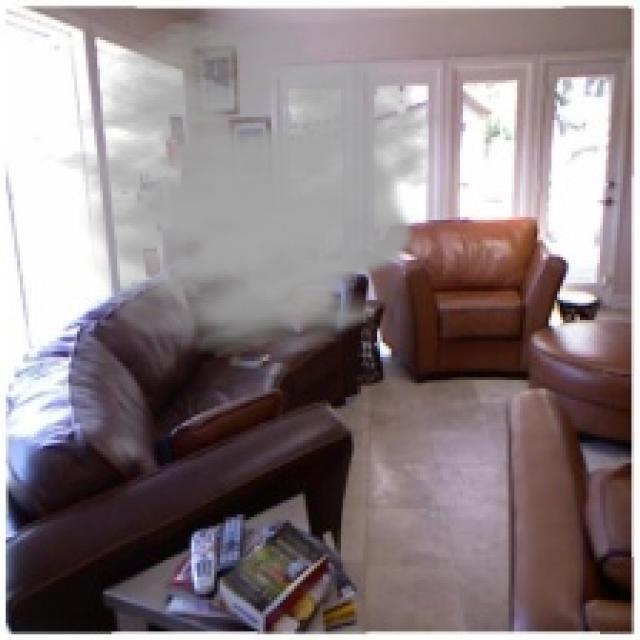smoke: (37, 14, 449, 357)
